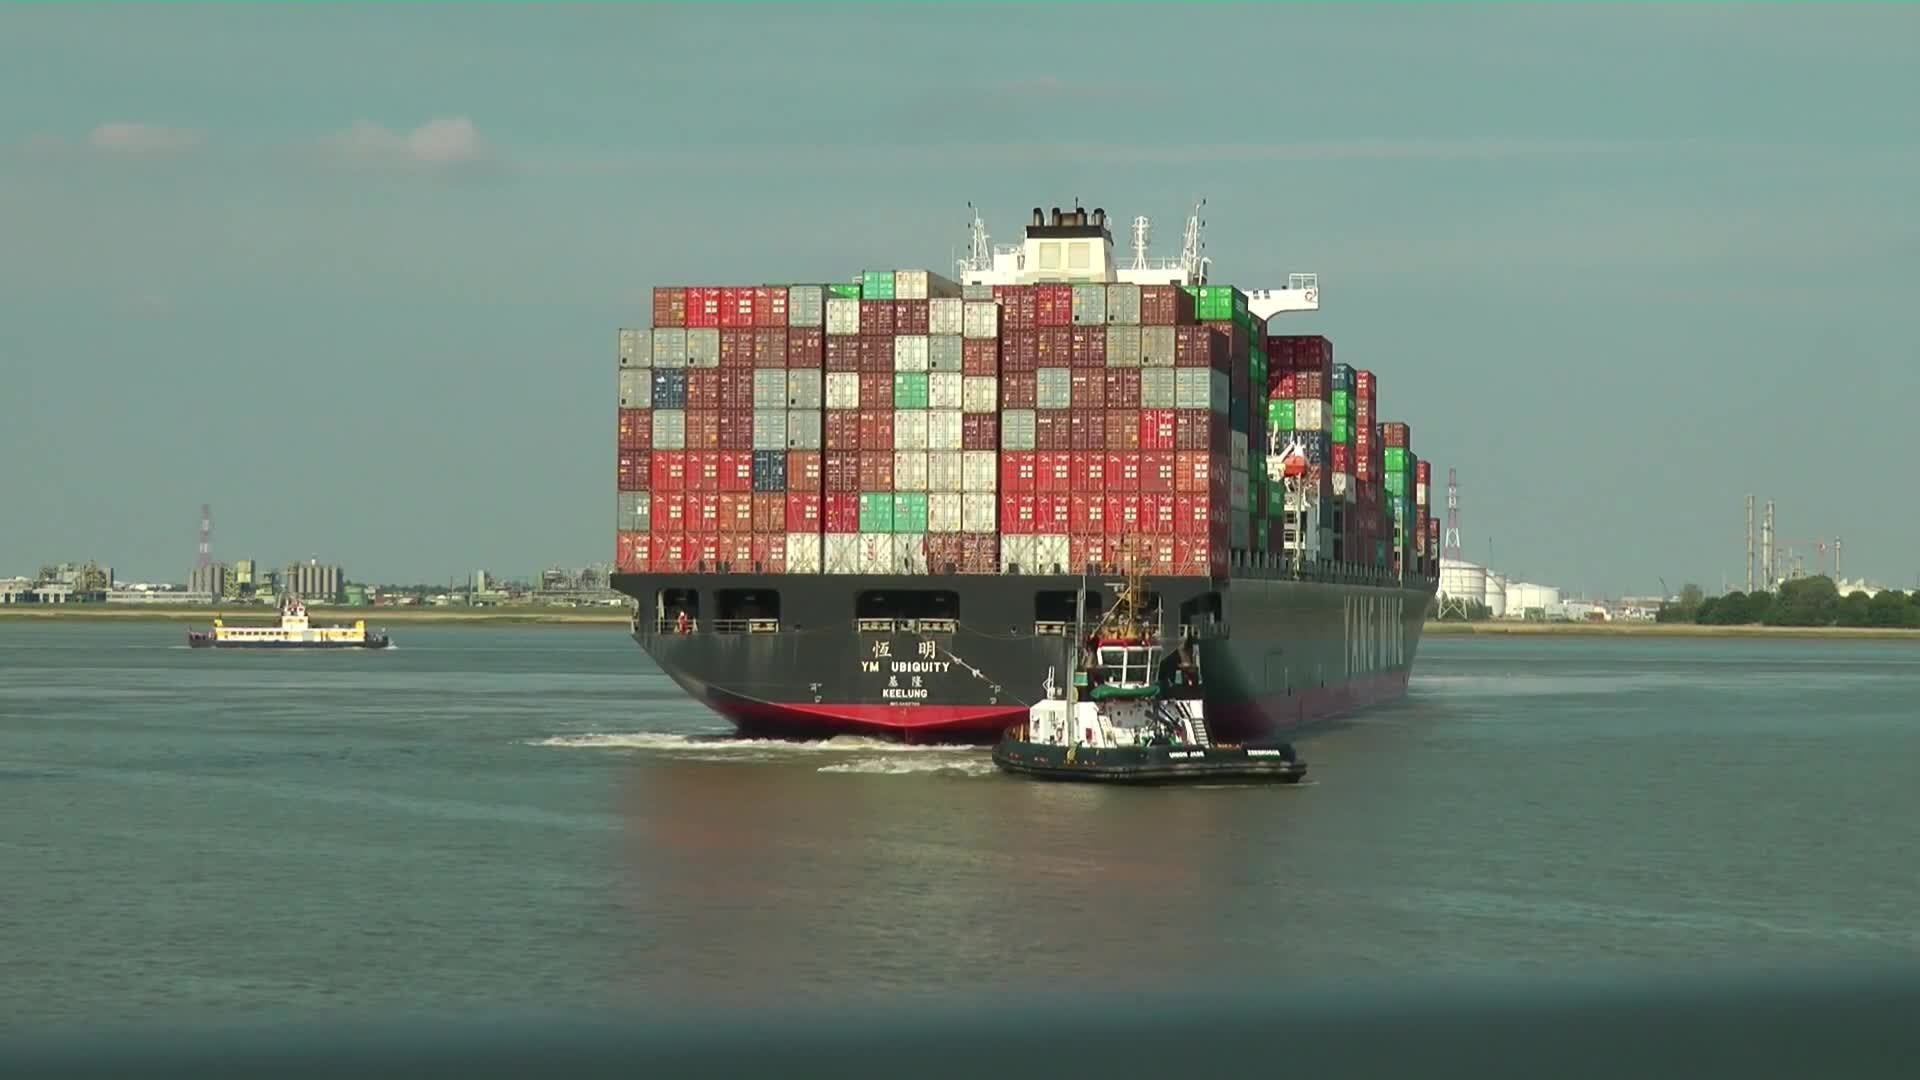Cargoship: (600, 200, 1451, 756)
otherboat: (996, 597, 1292, 789), (179, 585, 397, 659)
